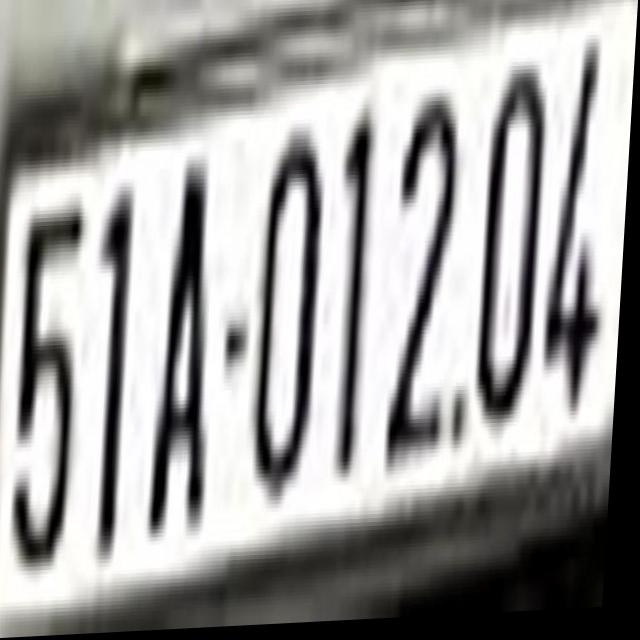0: (250, 122, 330, 528), (474, 47, 555, 441)
1: (84, 188, 143, 577), (329, 104, 379, 490)
2: (386, 97, 464, 476)
4: (542, 33, 619, 427)
5: (11, 186, 89, 572)
A: (146, 153, 227, 544)
